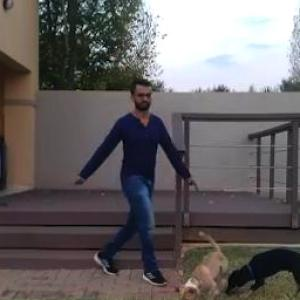land: (66, 84, 192, 292)
